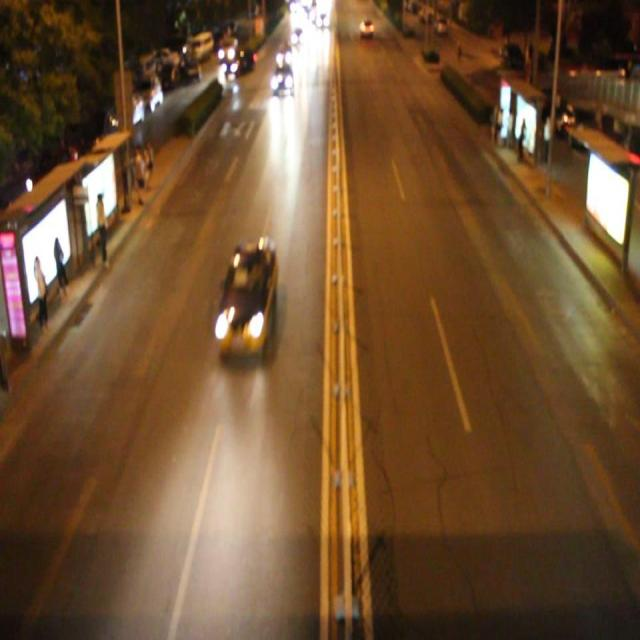car: (217, 238, 276, 360), (272, 65, 295, 99)
